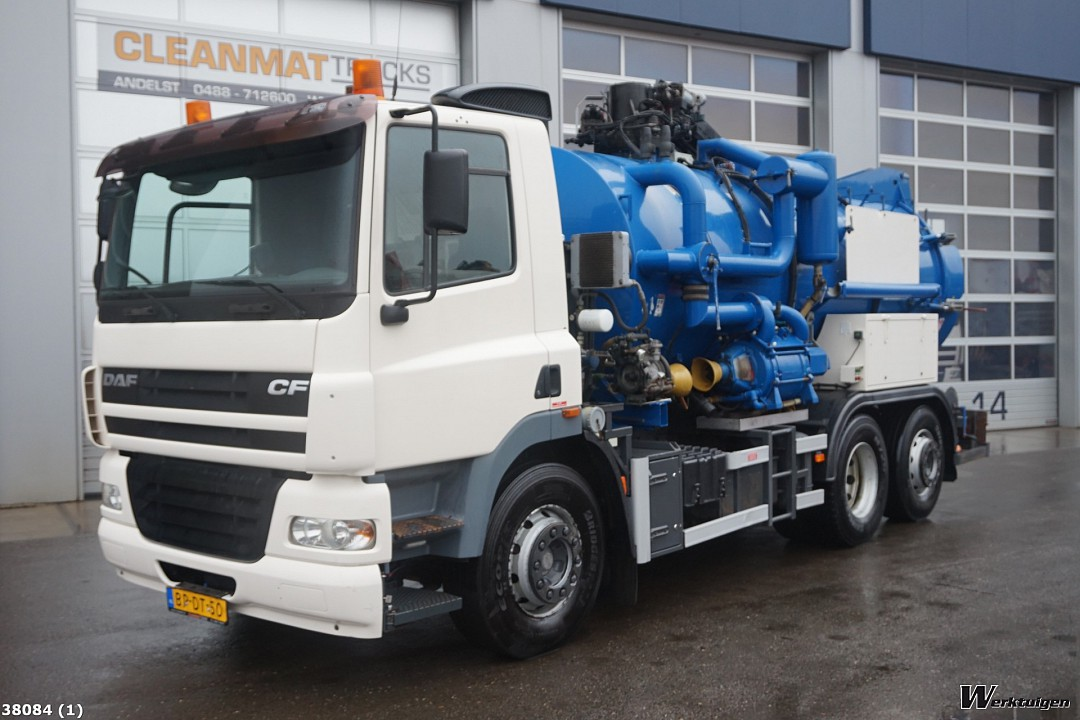truck: (86, 89, 972, 661)
